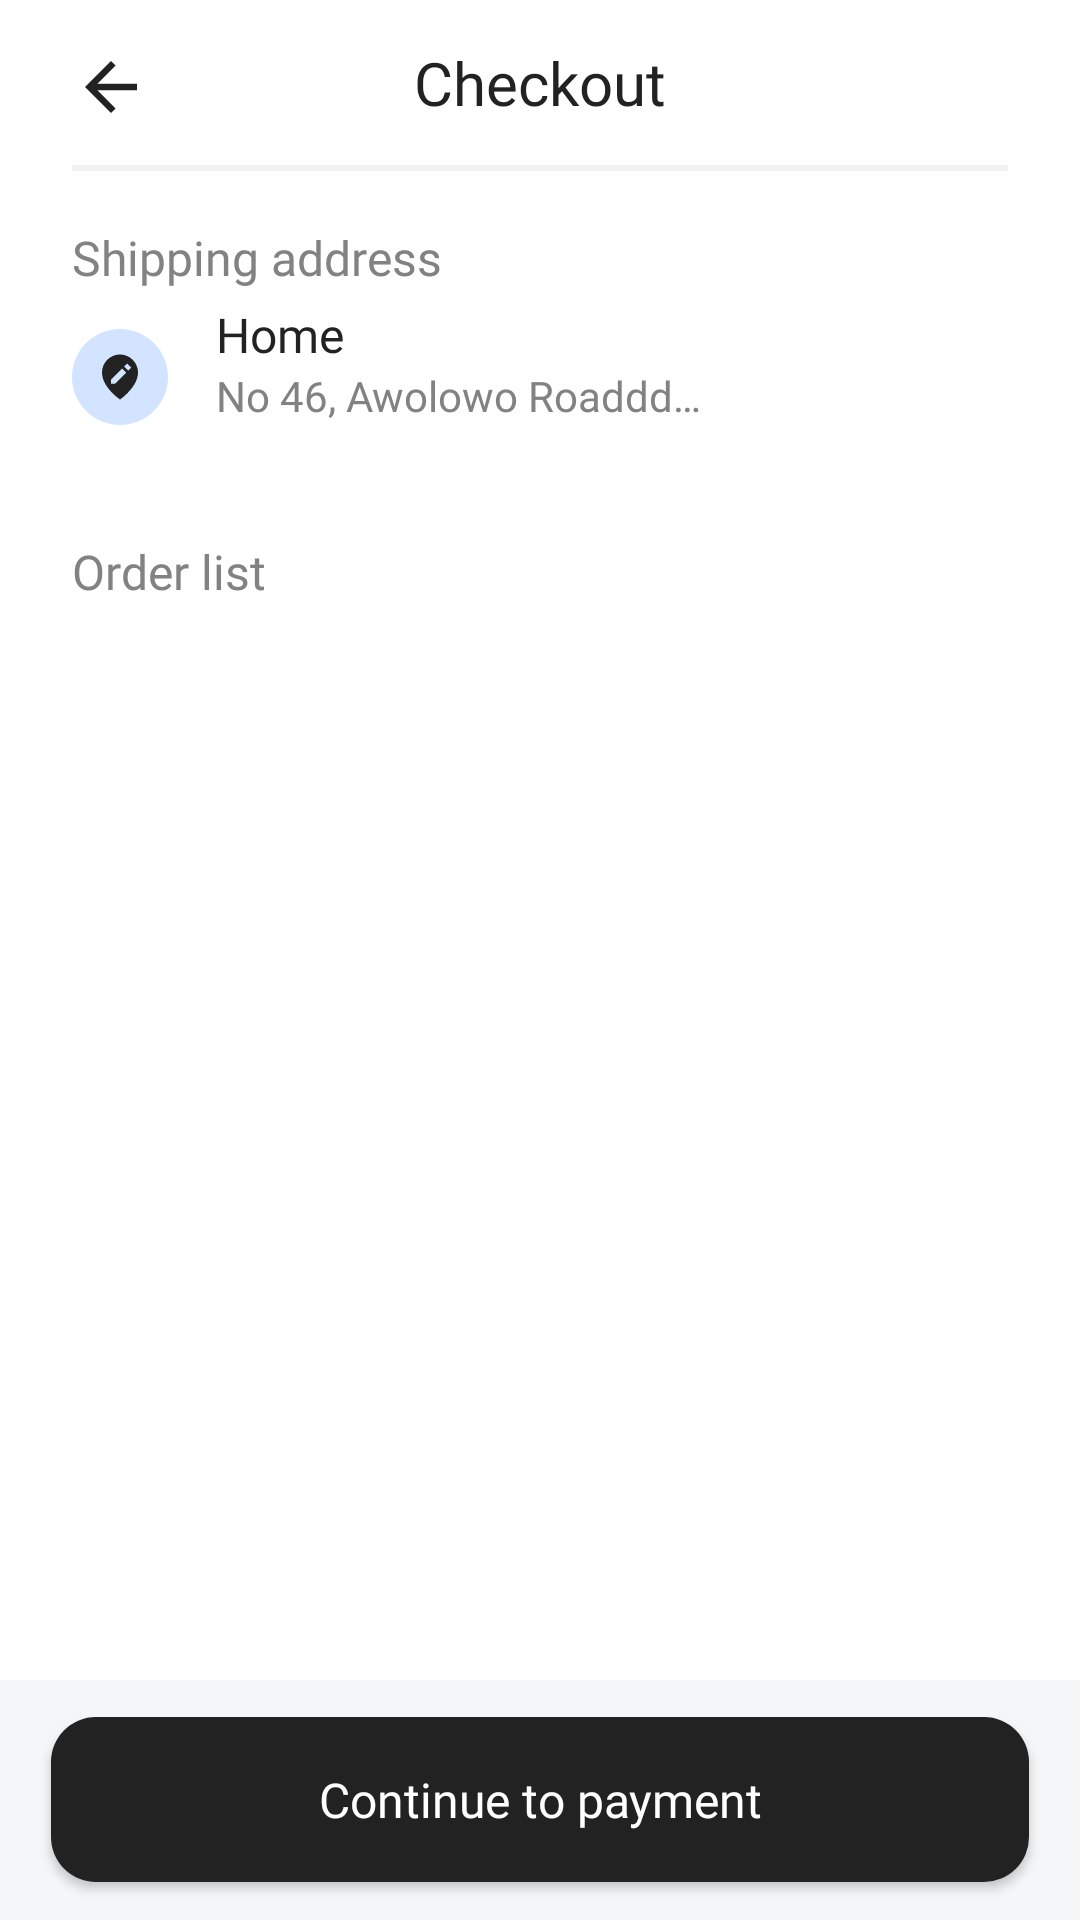

Screen size 1080 × 1920. Icon name, then its box in pixels as [left=x1, top=y1, right=x2, bottom=y2]:
arrow back: [left=85, top=61, right=137, bottom=113]
bxs edit location: [left=102, top=354, right=138, bottom=400]
